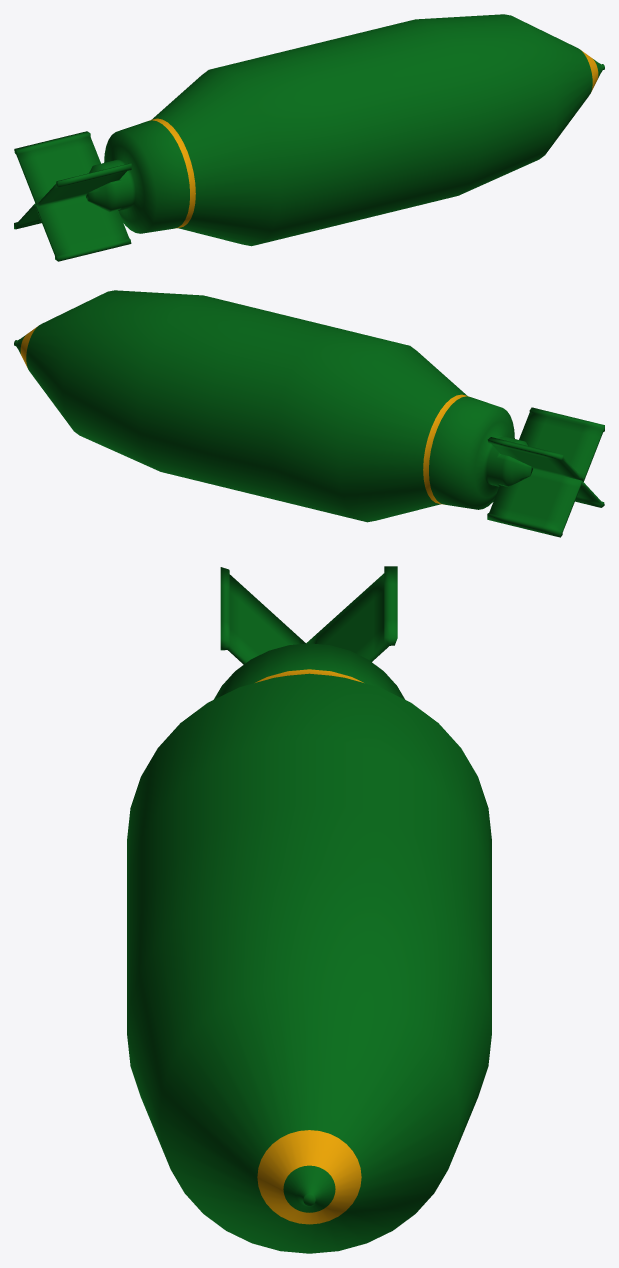
File: thousandlbbomb.fbx
The picture shows the model from 3 angles, top to bottom: view 1: azimuth 30°, elevation 25°; view 2: azimuth 150°, elevation 25°; view 3: azimuth 270°, elevation 25°; orthographic projection. The views are drawn at different scales.
Parts seen in each view (by area): view 1: Plane; view 2: Plane; view 3: Plane.
Boxes of the visible parts, box(x1,y1,x2,y2) form: Plane: box(14, 14, 604, 261); Plane: box(14, 290, 604, 537); Plane: box(127, 566, 491, 1253).
Bounding box in the file's own units: 1353 × 377 × 377.
